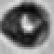correct: (0, 2, 52, 50)
